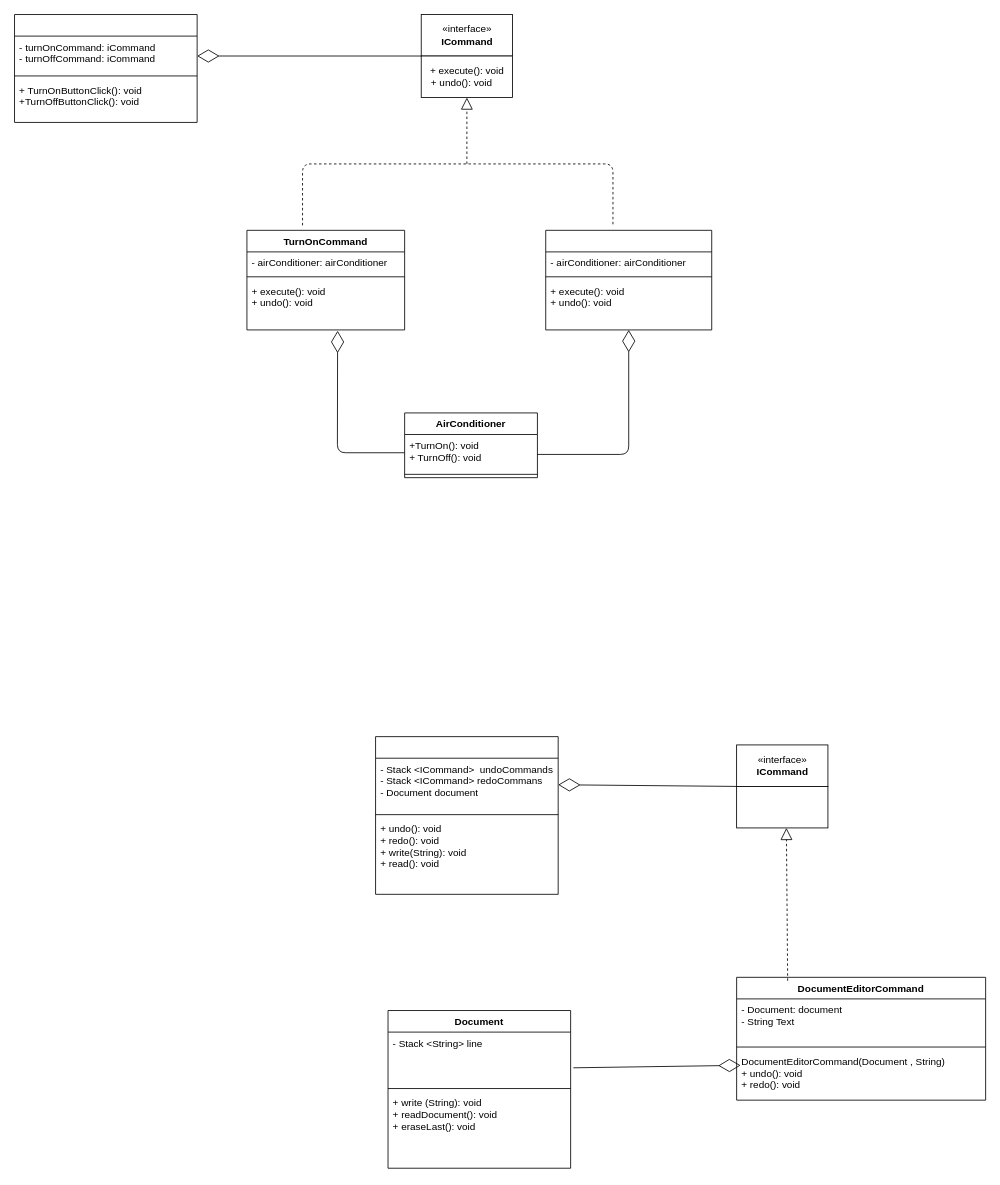
Image size: 1000x1185. Some labels were removed from this diagram. Here are the shapes that lost their labels. From the top down, the box of each, then its label:
(14, 14, 197, 122): Remote
(545, 229, 712, 330): TurnOffCommand
(375, 736, 558, 894): DocumentInvoker
(736, 786, 828, 828): + undo(): void + redo(): void
